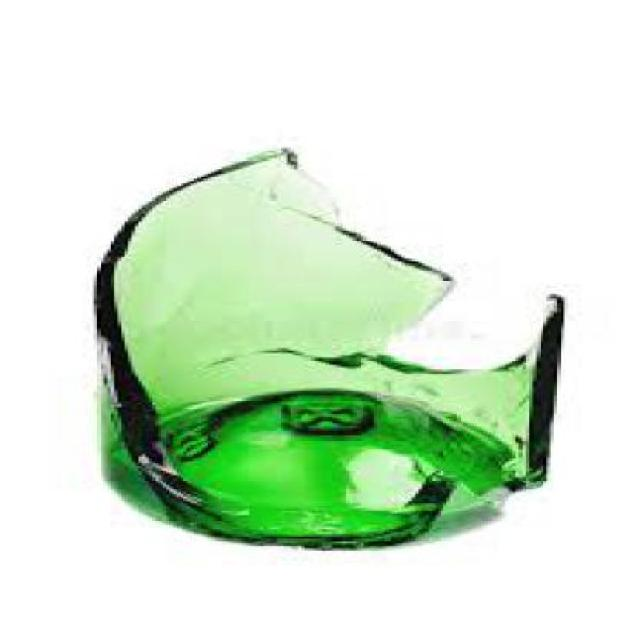kaca: (94, 143, 560, 546)
